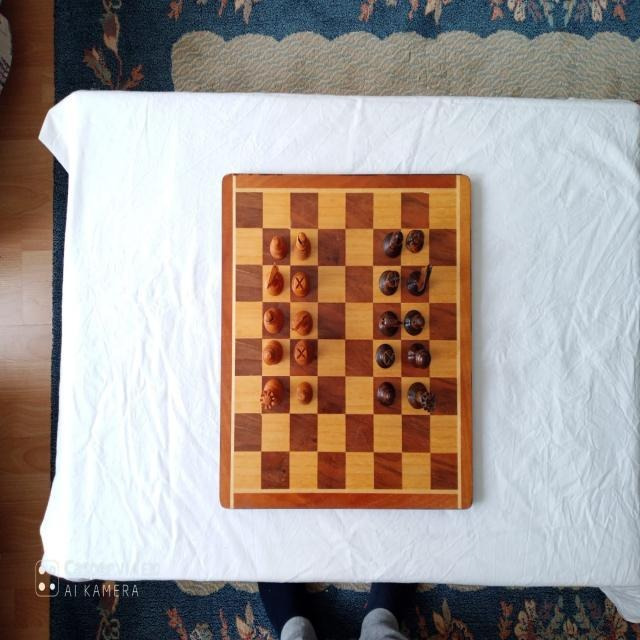black-bishop: (382, 230, 404, 258), (403, 308, 425, 335)
black-king: (408, 342, 432, 368)
black-knight: (407, 264, 432, 296), (377, 310, 402, 338)
black-pawn: (405, 227, 425, 252), (376, 381, 395, 407)
black-queen: (407, 382, 437, 414)
black-rook: (379, 269, 401, 296), (375, 343, 395, 369)
white-bishop: (262, 307, 285, 335), (292, 232, 312, 260)
white-king: (262, 339, 284, 367)
white-knight: (264, 262, 284, 296), (291, 309, 313, 336)
white-pawn: (295, 381, 313, 406), (269, 235, 287, 259)
white-queen: (259, 378, 284, 410)
white-rook: (293, 338, 315, 366), (291, 271, 311, 297)
